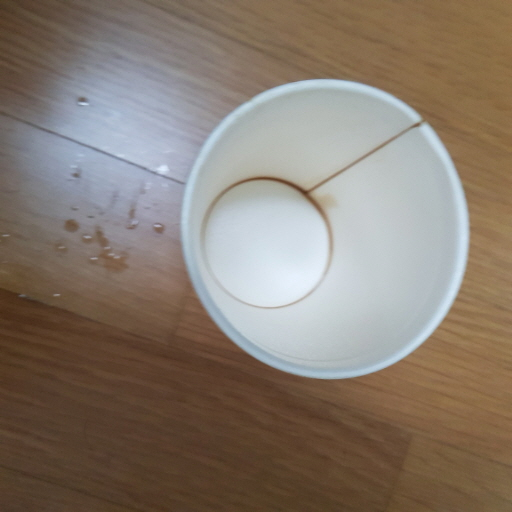Paper_1: (178, 79, 473, 386)
